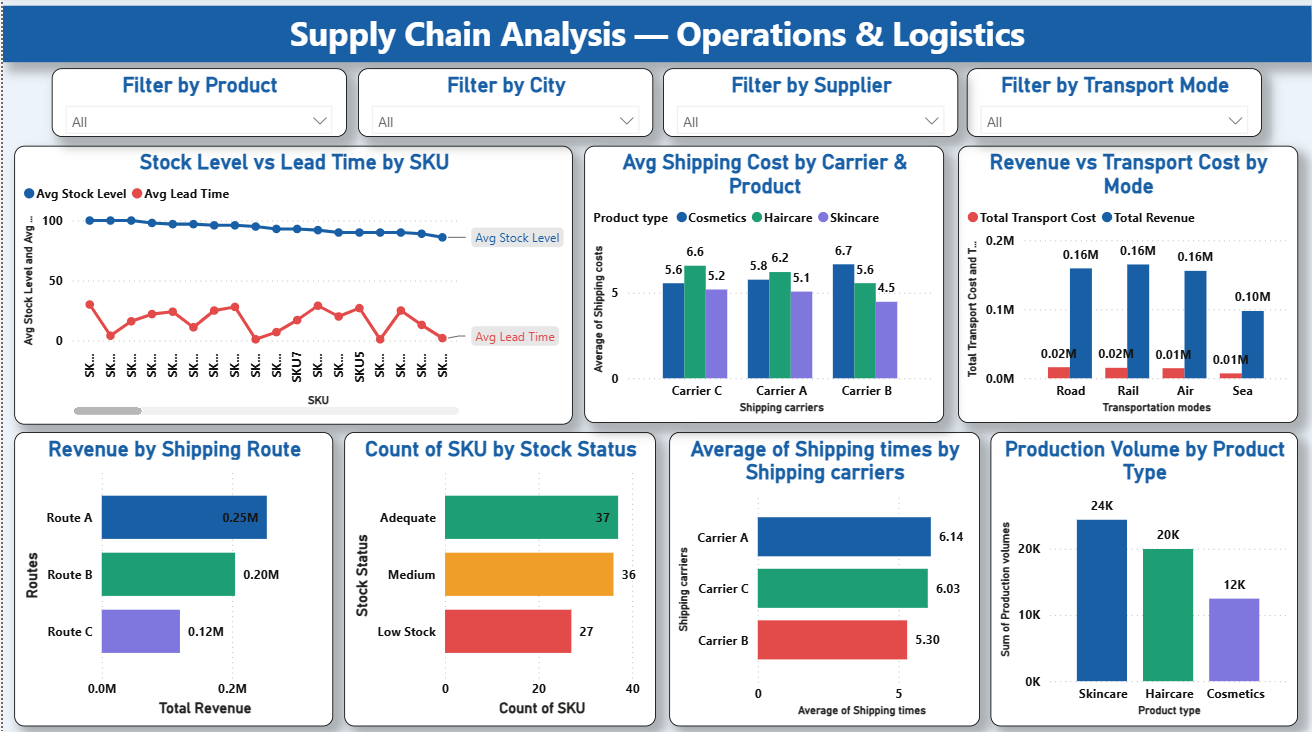

The dashboard page shown, as its layout file describes it:
{"tool":"powerbi","page":{"name":"Operations & Logistics","canvas":[1280,720],"ordinal":1},"visuals":[{"type":"lineChart","title":"Stock Level vs Lead Time by SKU","fields":{"Category":["SupplyChain.SKU"],"Y":["SupplyChain.Avg Stock Level","SupplyChain.Avg Lead Time"]},"box":[11,145.5,546.6,272.7],"z":0},{"type":"clusteredColumnChart","title":"Revenue vs Transport Cost by Mode","fields":{"Category":["SupplyChain.Transportation modes"],"Y":["SupplyChain.Total Transport Cost","SupplyChain.Total Revenue"]},"box":[934.2,145.5,332.6,271.5],"z":1000},{"type":"clusteredBarChart","title":"Revenue by Shipping Route","fields":{"Category":["SupplyChain.Routes"],"Y":["SupplyChain.Total Revenue"]},"box":[11.6,425.1,312.3,287.8],"z":2000},{"type":"clusteredBarChart","fields":{"Category":["SupplyChain.Stock Status"],"Y":["CountNonNull(SupplyChain.SKU)"]},"box":[334,425.1,305.1,287.8],"z":3000},{"type":"clusteredBarChart","fields":{"Category":["SupplyChain.Shipping carriers"],"Y":["Avg(SupplyChain.Shipping times)"]},"box":[652.2,425.1,303.7,287.8],"z":4000},{"type":"clusteredColumnChart","title":"Production Volume by Product Type","fields":{"Category":["SupplyChain.Product type"],"Y":["Sum(SupplyChain.Production volumes)"]},"box":[965.9,425.1,300.8,287.8],"z":5000},{"type":"textbox","box":[0,8.6,1280.3,55],"z":6000},{"type":"slicer","title":"Filter by Transport Mode","fields":{"Values":["SupplyChain.Transportation modes"]},"box":[943,70.2,289,67],"z":7000},{"type":"slicer","title":"Filter by Product","fields":{"Values":["SupplyChain.Product type"]},"box":[48.2,70.2,288.6,67],"z":8000},{"type":"slicer","title":"Filter by City","fields":{"Values":["SupplyChain.Location"]},"box":[347.1,70.2,289,67],"z":9000},{"type":"slicer","title":"Filter by Supplier","fields":{"Values":["SupplyChain.Supplier name"]},"box":[645.1,70.2,289,67],"z":10000},{"type":"clusteredColumnChart","title":"Avg Shipping Cost by Carrier & Product","fields":{"Category":["SupplyChain.Shipping carriers"],"Y":["Avg(SupplyChain.Shipping costs)"],"Series":["SupplyChain.Product type"]},"box":[568.6,145.5,352.2,271.5],"z":11000}]}

Visuals, with their boxes in screenshot pixels (x1, y1, x2, y2), scaled from the page's 1280x720 canvas onto the 1312x732 screenshot:
"Stock Level vs Lead Time by SKU" lineChart: [x1=11, y1=148, x2=572, y2=425]
"Revenue vs Transport Cost by Mode" clusteredColumnChart: [x1=958, y1=148, x2=1298, y2=424]
"Revenue by Shipping Route" clusteredBarChart: [x1=12, y1=432, x2=332, y2=725]
clusteredBarChart - SupplyChain.Stock Status x CountNonNull(SupplyChain.SKU): [x1=342, y1=432, x2=655, y2=725]
clusteredBarChart - SupplyChain.Shipping carriers x Avg(SupplyChain.Shipping times): [x1=669, y1=432, x2=980, y2=725]
"Production Volume by Product Type" clusteredColumnChart: [x1=990, y1=432, x2=1298, y2=725]
textbox: [x1=0, y1=9, x2=1311, y2=65]
"Filter by Transport Mode" slicer: [x1=967, y1=71, x2=1263, y2=139]
"Filter by Product" slicer: [x1=49, y1=71, x2=345, y2=139]
"Filter by City" slicer: [x1=356, y1=71, x2=652, y2=139]
"Filter by Supplier" slicer: [x1=661, y1=71, x2=957, y2=139]
"Avg Shipping Cost by Carrier & Product" clusteredColumnChart: [x1=583, y1=148, x2=944, y2=424]
